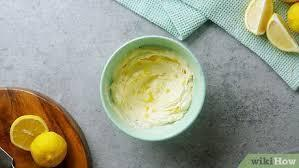lemon: (10, 115, 48, 151), (30, 132, 67, 167), (266, 13, 299, 52), (245, 0, 273, 35), (287, 2, 299, 33)
